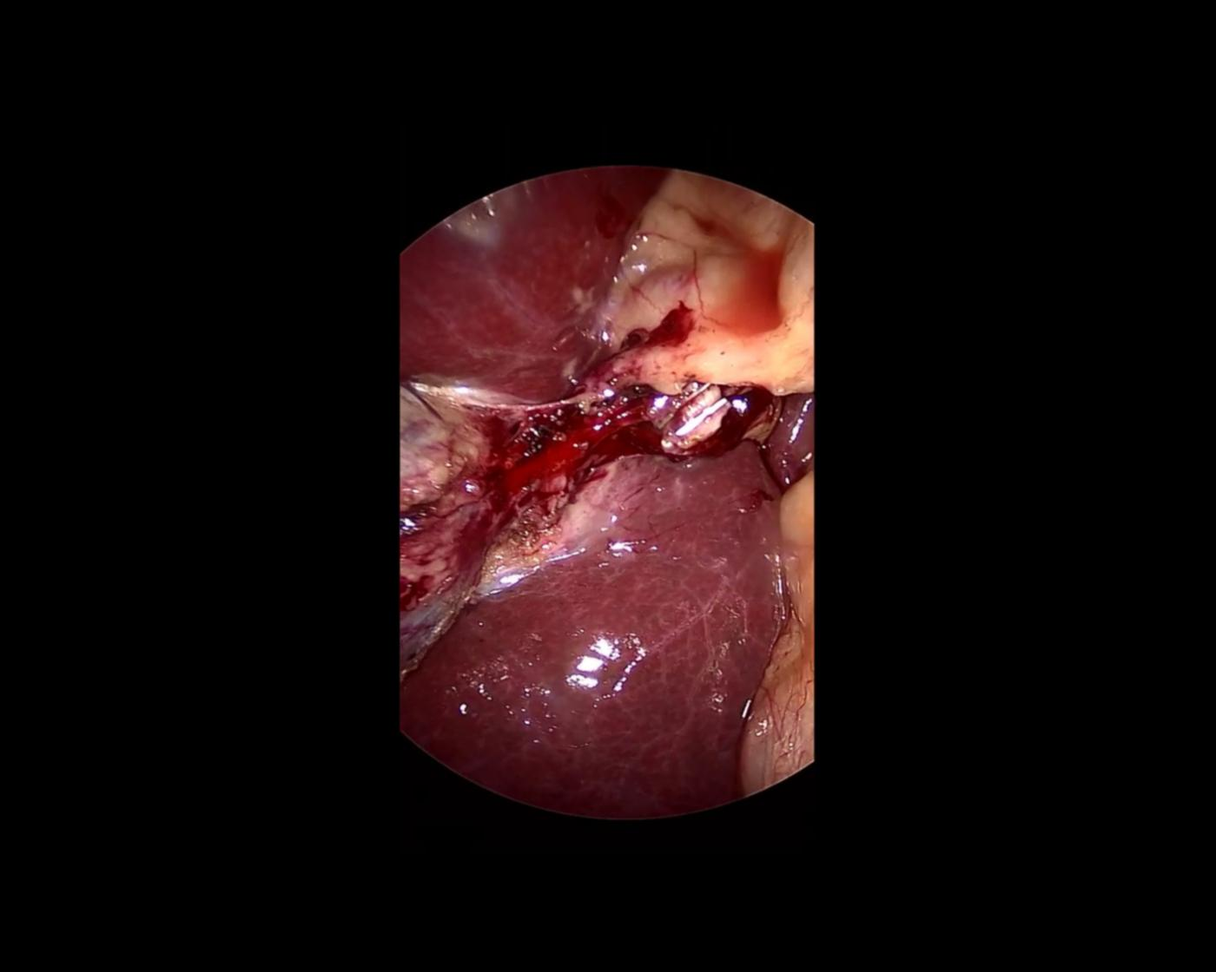Gallbladder: (400, 379, 496, 680)
Liver: (356, 437, 832, 862), (353, 75, 673, 442)
